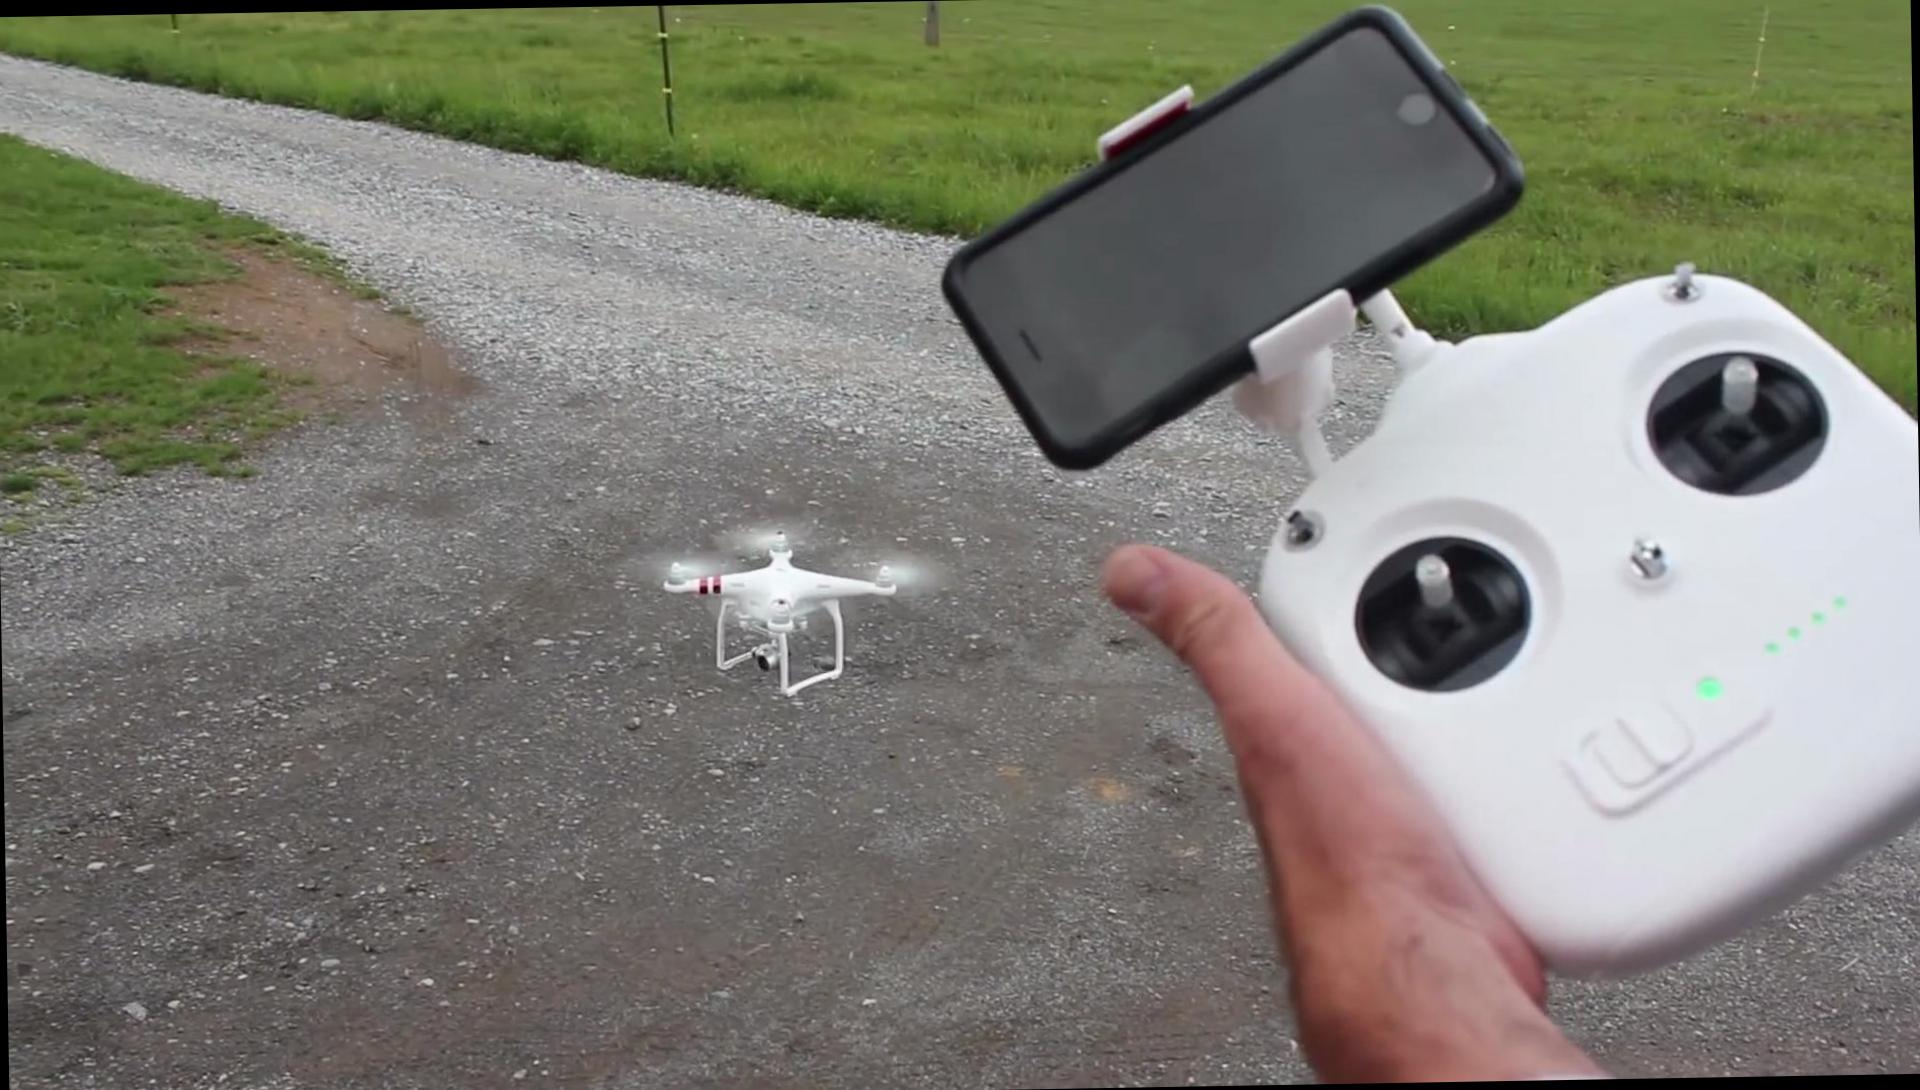drone: (650, 515, 926, 699)
